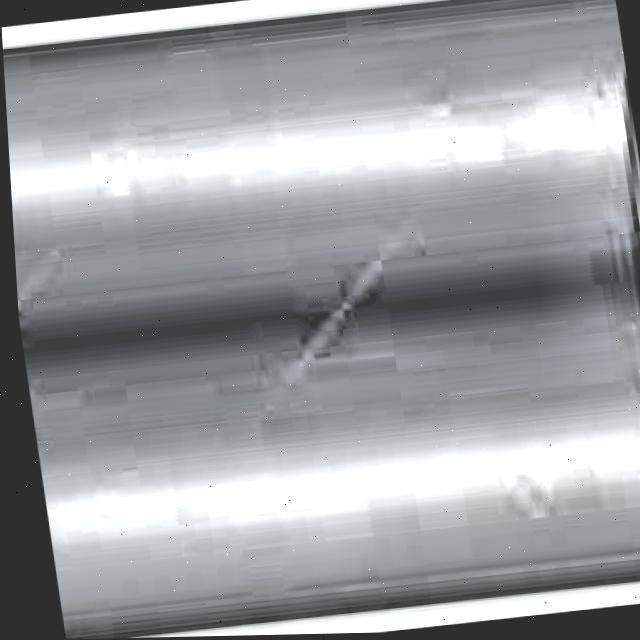metal: (2, 0, 640, 640)
